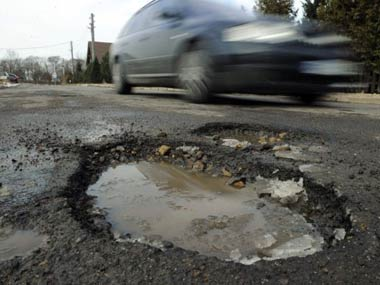pothole: (48, 131, 356, 263), (194, 112, 275, 152)
